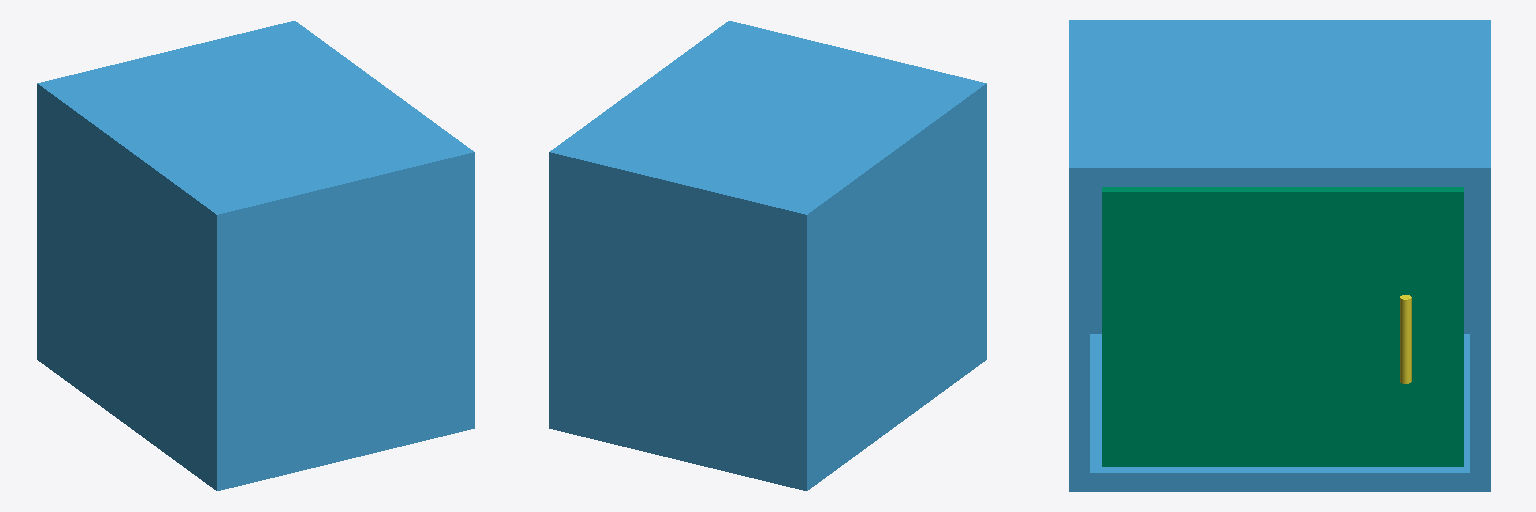
URDF robot description (my_cabinet):
<?xml version="1.0" ?>
<robot name="my_cabinet">
	<link name="world"/>
	<joint name="virtual_joint" type="fixed">
		<parent link="world"/>
		<child link="base_cabinet_link"/>
		<origin xyz="0.0 0.0 0.0" rpy="0.0 0.0 0.0"/>
	</joint>
	<link name="base_cabinet_link">
		<visual>
			<origin xyz="0.0 -0.0025 -0.14486361448406504" rpy="0.0 0.0 0.0"/>
			<geometry>
				<box size="0.3 0.36259180362667154 0.018"/>
			</geometry>
		</visual>
		<collision name="base_cabinet_link_collision_0">
			<origin xyz="0.0 -0.0025 -0.14486361448406504" rpy="0.0 0.0 0.0"/>
			<geometry>
				<box size="0.3 0.36259180362667154 0.018"/>
			</geometry>
		</collision>
		<visual>
			<origin xyz="0.0 0.1697959018133358 0.0" rpy="0.0 0.0 0.0"/>
			<geometry>
				<box size="0.3 0.018 0.3077272289681301"/>
			</geometry>
		</visual>
		<collision name="base_cabinet_link_collision_1">
			<origin xyz="0.0 0.1697959018133358 0.0" rpy="0.0 0.0 0.0"/>
			<geometry>
				<box size="0.3 0.018 0.3077272289681301"/>
			</geometry>
		</collision>
		<visual>
			<origin xyz="0.0 -0.1747959018133358 0.0" rpy="0.0 0.0 0.0"/>
			<geometry>
				<box size="0.3 0.018 0.3077272289681301"/>
			</geometry>
		</visual>
		<collision name="base_cabinet_link_collision_2">
			<origin xyz="0.0 -0.1747959018133358 0.0" rpy="0.0 0.0 0.0"/>
			<geometry>
				<box size="0.3 0.018 0.3077272289681301"/>
			</geometry>
		</collision>
		<visual>
			<origin xyz="0.0 -0.0025 0.14486361448406504" rpy="0.0 0.0 0.0"/>
			<geometry>
				<box size="0.3 0.36259180362667154 0.018"/>
			</geometry>
		</visual>
		<collision name="base_cabinet_link_collision_3">
			<origin xyz="0.0 -0.0025 0.14486361448406504" rpy="0.0 0.0 0.0"/>
			<geometry>
				<box size="0.3 0.36259180362667154 0.018"/>
			</geometry>
		</collision>
		<visual>
			<origin xyz="-0.141 -0.0025 0.0" rpy="0.0 0.0 0.0"/>
			<geometry>
				<box size="0.018 0.36259180362667154 0.3077272289681301"/>
			</geometry>
		</visual>
		<collision name="base_cabinet_link_collision_4">
			<origin xyz="-0.141 -0.0025 0.0" rpy="0.0 0.0 0.0"/>
			<geometry>
				<box size="0.018 0.36259180362667154 0.3077272289681301"/>
			</geometry>
		</collision>
		<inertial>
			<mass value="0.200000"/>
			<inertia ixx="0.003769" ixy="0.0" ixz="0.0" iyy="0.003078" iyz="0.0" izz="0.003691"/>
		</inertial>
	</link>
	<link name="door_link">
		<visual>
			<origin xyz="0.0 -0.15579590181333577 0.0"/>
			<geometry>
				<box size="0.018 0.31159180362667155 0.26172722896813005"/>
			</geometry>
		</visual>
		<collision name="door_link_collision">
			<origin xyz="0.0 -0.15579590181333577 0.0"/>
			<geometry>
				<box size="0.018 0.31159180362667155 0.26172722896813005"/>
			</geometry>
		</collision>
		<inertial>
			<mass value="0.200000"/>
			<inertia ixx="0.002760" ixy="0.0" ixz="0.0" iyy="0.001147" iyz="0.0" izz="0.001624"/>
		</inertial>
	</link>
	<joint name="door_joint" type="revolute">
		<origin xyz="0.141 -0.15579590181333577 0.0" rpy="0.000000 -0.000000 3.141593"/>
		<axis xyz="0 0 1"/>
		<parent link="base_cabinet_link"/>
		<child link="door_link"/>
		<limit effort="50" lower="-1.658062789394613" upper="0" velocity="10"/>
		<dynamics friction="3.5" damping="3.5"/>
	</joint>
	<link name="handle_link">
		<visual>
			<origin xyz="0.0 0.0 0.0" rpy="0.0 0.0 0.0"/>
			<geometry>
				<cylinder length="0.08" radius="0.005"/>
			</geometry>
		</visual>
		<collision name="handle_link_collision_0">
			<origin xyz="0.0 0.0 0.0" rpy="0.0 0.0 0.0"/>
			<geometry>
				<cylinder length="0.08" radius="0.005"/>
			</geometry>
		</collision>
		<visual>
			<origin xyz="-0.01 0.0 0.02" rpy="0.0 1.5707963267948966 0.0"/>
			<geometry>
				<cylinder length="0.02" radius="0.003"/>
			</geometry>
		</visual>
		<collision name="handle_link_collision_1">
			<origin xyz="-0.01 0.0 0.02" rpy="0.0 1.5707963267948966 0.0"/>
			<geometry>
				<cylinder length="0.01" radius="0.003"/>
			</geometry>
		</collision>
		<visual>
			<origin xyz="-0.01 0.0 -0.02" rpy="0.0 1.5707963267948966 0.0"/>
			<geometry>
				<cylinder length="0.02" radius="0.003"/>
			</geometry>
		</visual>
		<collision name="handle_link_collision_2">
			<origin xyz="-0.01 0.0 -0.02" rpy="0.0 1.5707963267948966 0.0"/>
			<geometry>
				<cylinder length="0.02" radius="0.003"/>
			</geometry>
		</collision>
		<inertial>
			<mass value="0.050000"/>
			<inertia ixx="0.000027" ixy="0.0" ixz="0.0" iyy="0.000029" iyz="0.0" izz="0.000003"/>
		</inertial>
	</link>
	<joint name="handle_joint" type="fixed">
		<origin xyz="-0.028999999999999998 -0.26159180362667156 0.0" rpy="0.000000 -0.000000 3.141593"/>
		<parent link="door_link"/>
		<child link="handle_link"/>
	</joint>
	<gazebo reference="base_cabinet_link">
		<sensor name="main_sensor" type="contact">
			<selfCollide>true</selfCollide>
			<alwaysOn>true</alwaysOn>
			<updateRate>5.0</updateRate>
			<material>Gazebo/Red</material>
			<contact>
				<collision>base_cabinet_link_collision_0_collision</collision>
				<collision>base_cabinet_link_collision_1_collision</collision>
				<collision>base_cabinet_link_collision_2_collision</collision>
				<collision>base_cabinet_link_collision_3_collision</collision>
				<collision>base_cabinet_link_collision_4_collision</collision>
			</contact>
			<plugin name="gazebo_ros_bumper_controller" filename="libgazebo_ros_bumper.so">
				<bumperTopicName>/contact</bumperTopicName>
				<frameName>world</frameName>
			</plugin>
		</sensor>
	</gazebo>
	<gazebo reference="door_link">
		<sensor name="main_sensor" type="contact">
			<selfCollide>true</selfCollide>
			<alwaysOn>true</alwaysOn>
			<updateRate>5.0</updateRate>
			<material>Gazebo/Red</material>
			<contact>
				<collision>door_link_collision_collision</collision>
			</contact>
			<plugin name="gazebo_ros_bumper_controller" filename="libgazebo_ros_bumper.so">
				<bumperTopicName>/contact_door</bumperTopicName>
				<frameName>contact_door</frameName>
			</plugin>
		</sensor>
	</gazebo>
	<gazebo reference="door_link">
		<mu>3.0</mu>
		<mu2>3.0</mu2>
		<kp>10000000</kp>
		<kd>100</kd>
	</gazebo>
</robot>

--- Facts derived from the render (not from the file) ---
The picture shows the robot from 3 angles, left to right: view 1: azimuth 30°, elevation 25°; view 2: azimuth 150°, elevation 25°; view 3: azimuth 270°, elevation 25°; orthographic projection.
Model my_cabinet with 4 links and 3 joints (1 revolute, 2 fixed), rooted at world, posed every joint at zero.
Links seen in each view (by area): view 1: base_cabinet_link; view 2: base_cabinet_link; view 3: door_link, base_cabinet_link, handle_link.
Boxes of the visible links, x1,y1,x2,y2 form: base_cabinet_link: [37, 21, 474, 490]; base_cabinet_link: [549, 21, 986, 490]; door_link: [1102, 187, 1463, 466]; base_cabinet_link: [1069, 20, 1490, 491]; handle_link: [1400, 295, 1411, 383].
Bounding box of the posed robot: 0.325 × 0.3626 × 0.3077 m (x, y, z).
Geometry: primitives only (box / cylinder / sphere), no mesh files.
